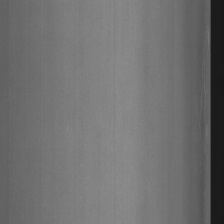silk_spot: (194, 33, 209, 146)
